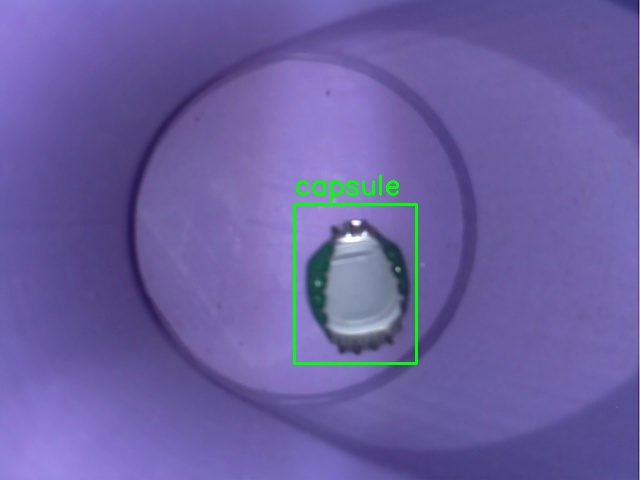capsule: (294, 204, 416, 363)
